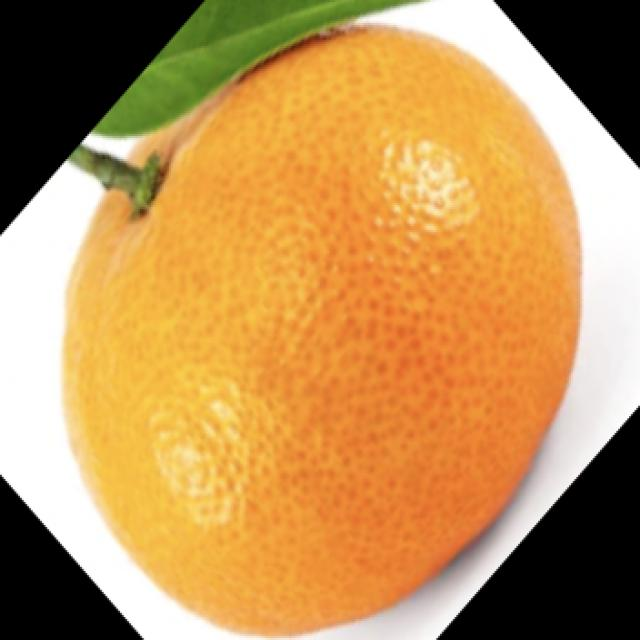fresh: (36, 7, 601, 640)
